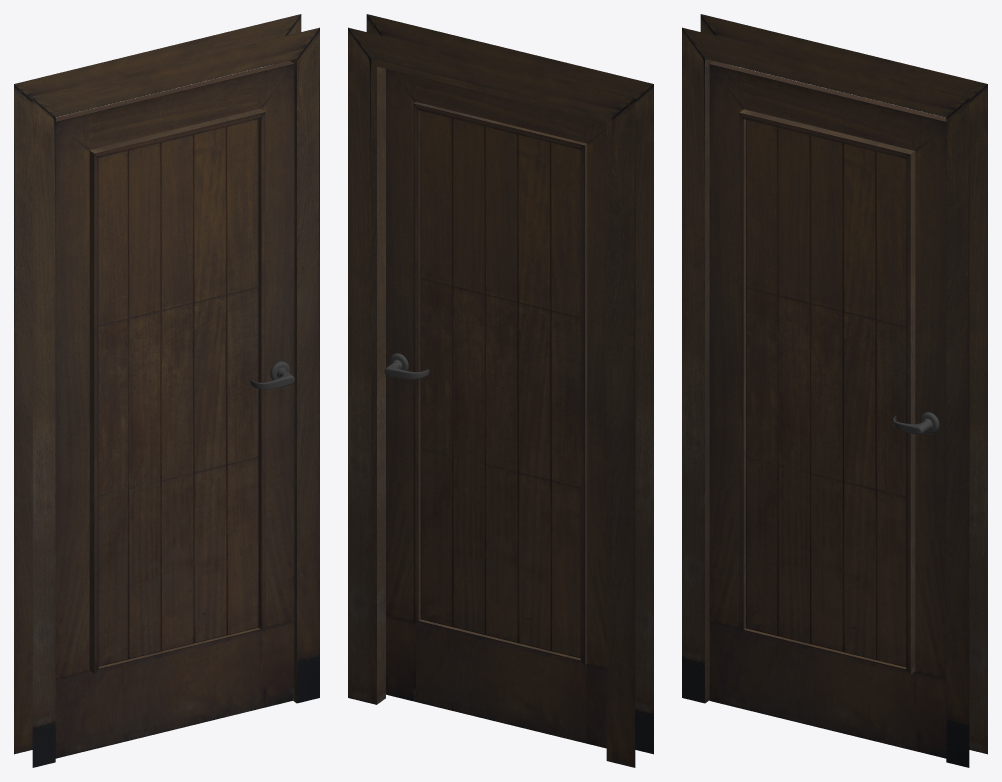
Rendered from woodenDoor_01_v1_ANIM.fbx.
3 renders of one model, left to right at view 1: azimuth 30°, elevation 25°; view 2: azimuth 150°, elevation 25°; view 3: azimuth 330°, elevation 25°, orthographic.
Parts seen in each view (by area): view 1: Door, DoorFrame, Handle_Back; view 2: Door, DoorFrame, Handle_Front; view 3: Door, DoorFrame, Handle_Back.
Boxes of the visible parts, x1,y1,x2,y2 form: Door: (55, 60, 294, 758); DoorFrame: (14, 14, 319, 767); Handle_Back: (250, 361, 294, 389); Door: (386, 69, 606, 748); DoorFrame: (348, 14, 653, 767); Handle_Front: (384, 353, 429, 379); Door: (709, 61, 946, 758); DoorFrame: (682, 14, 987, 767); Handle_Back: (893, 412, 939, 435).
Size of the model in its own units: 297 by 664 by 54.58.
